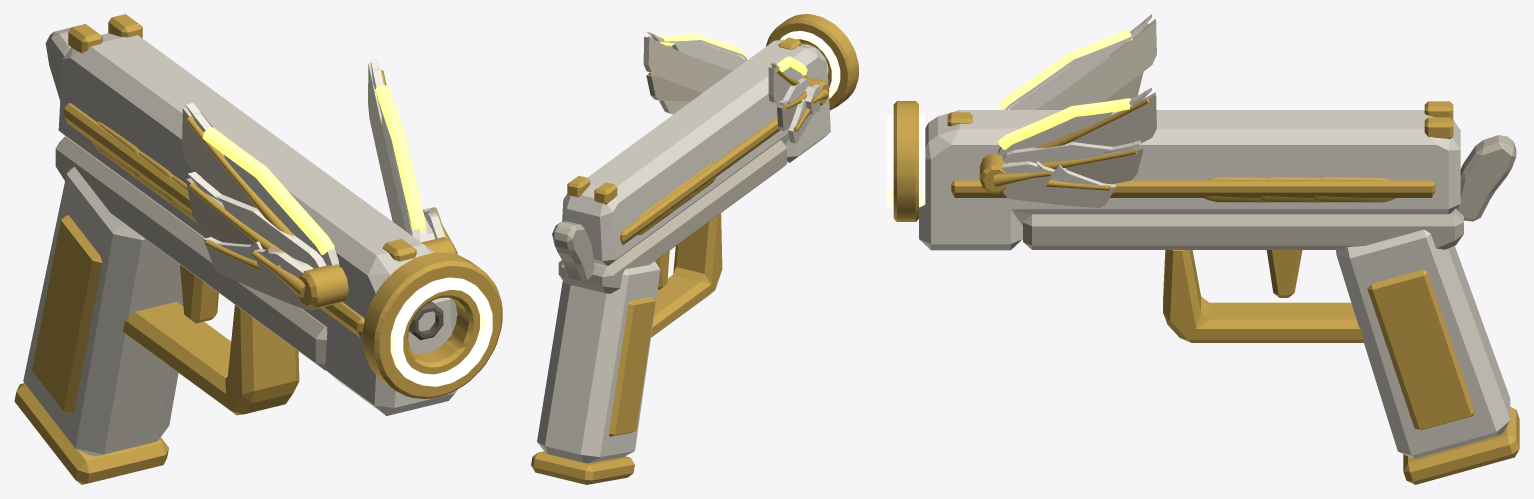
File: w_pistol@pistol_seraph.glb
The picture shows the model from 3 angles, left to right: view 1: azimuth 30°, elevation 25°; view 2: azimuth 150°, elevation 25°; view 3: azimuth 270°, elevation 25°; orthographic projection. The views are drawn at different scales.
Parts seen in each view (by area): view 1: slide_wzA__shell__pddd8cc, grip_wzA__shell__pddd8cc, slide_wzN__gold__pcfa84a, body_wzN__gold__pcfa84a, body_wzB__trim__pc4bdad, grip_wzN__gold__pcfa84a, slide_wzN__v1__pf3eee3, slide_wzN__v2__pddd5c3, slide_wzN__bone__pcfa84a, slide_wzN__wglow__nffc860, mag_wzN__gold__pcfa84a, slide_wzN__glow__nffe6a8 (+3 smaller); view 2: slide_wzA__shell__pddd8cc, grip_wzA__shell__pddd8cc, slide_wzN__gold__pcfa84a, body_wzB__trim__pc4bdad, body_wzN__gold__pcfa84a, slide_wzN__v2__pddd5c3, grip_wzN__gold__pcfa84a, slide_wzN__v1__pf3eee3, mag_wzN__gold__pcfa84a, hammer_wzN__trim__pc4bdad, slide_wzN__v3__pc7bea9, slide_wzN__wglow__nffc860 (+2 smaller); view 3: slide_wzA__shell__pddd8cc, grip_wzA__shell__pddd8cc, body_wzB__trim__pc4bdad, slide_wzN__gold__pcfa84a, body_wzN__gold__pcfa84a, grip_wzN__gold__pcfa84a, slide_wzN__v2__pddd5c3, slide_wzN__v1__pf3eee3, mag_wzN__gold__pcfa84a, hammer_wzN__trim__pc4bdad, slide_wzN__wglow__nffc860, slide_wzN__bone__pcfa84a (+2 smaller).
Part boxes in pixels (bbox=[...]): slide_wzA__shell__pddd8cc: bbox=[58, 33, 457, 415]; grip_wzA__shell__pddd8cc: bbox=[23, 167, 183, 456]; slide_wzN__gold__pcfa84a: bbox=[64, 14, 502, 399]; body_wzN__gold__pcfa84a: bbox=[123, 264, 299, 415]; body_wzB__trim__pc4bdad: bbox=[55, 136, 327, 370]; grip_wzN__gold__pcfa84a: bbox=[32, 214, 102, 413]; slide_wzN__v1__pf3eee3: bbox=[185, 58, 445, 277]; slide_wzN__v2__pddd5c3: bbox=[182, 63, 431, 309]; slide_wzN__bone__pcfa84a: bbox=[186, 70, 457, 309]; slide_wzN__wglow__nffc860: bbox=[202, 84, 426, 254]; mag_wzN__gold__pcfa84a: bbox=[14, 383, 168, 484]; slide_wzN__glow__nffe6a8: bbox=[390, 277, 492, 386]; slide_wzA__shell__pddd8cc: bbox=[562, 39, 830, 265]; grip_wzA__shell__pddd8cc: bbox=[537, 261, 660, 463]; slide_wzN__gold__pcfa84a: bbox=[567, 14, 858, 244]; body_wzB__trim__pc4bdad: bbox=[558, 140, 786, 293]; body_wzN__gold__pcfa84a: bbox=[651, 213, 722, 337]; slide_wzN__v2__pddd5c3: bbox=[643, 36, 820, 144]; grip_wzN__gold__pcfa84a: bbox=[609, 297, 655, 436]; slide_wzN__v1__pf3eee3: bbox=[646, 31, 820, 131]; mag_wzN__gold__pcfa84a: bbox=[531, 451, 634, 484]; hammer_wzN__trim__pc4bdad: bbox=[552, 221, 594, 282]; slide_wzN__v3__pc7bea9: bbox=[646, 75, 797, 130]; slide_wzN__wglow__nffc860: bbox=[659, 33, 807, 75]; slide_wzA__shell__pddd8cc: bbox=[919, 110, 1460, 250]; grip_wzA__shell__pddd8cc: bbox=[1336, 229, 1510, 458]; body_wzB__trim__pc4bdad: bbox=[1023, 208, 1463, 249]; slide_wzN__gold__pcfa84a: bbox=[893, 101, 1453, 221]; body_wzN__gold__pcfa84a: bbox=[1163, 250, 1363, 342]; grip_wzN__gold__pcfa84a: bbox=[1367, 269, 1474, 430]; slide_wzN__v2__pddd5c3: bbox=[1002, 18, 1156, 207]; slide_wzN__v1__pf3eee3: bbox=[997, 14, 1151, 187]; mag_wzN__gold__pcfa84a: bbox=[1403, 407, 1519, 484]; hammer_wzN__trim__pc4bdad: bbox=[1456, 135, 1516, 221]; slide_wzN__wglow__nffc860: bbox=[998, 29, 1132, 149]; slide_wzN__bone__pcfa84a: bbox=[979, 23, 1149, 193].
Bounding box in the file's own units: 0.108 × 0.2569 × 0.3525.
